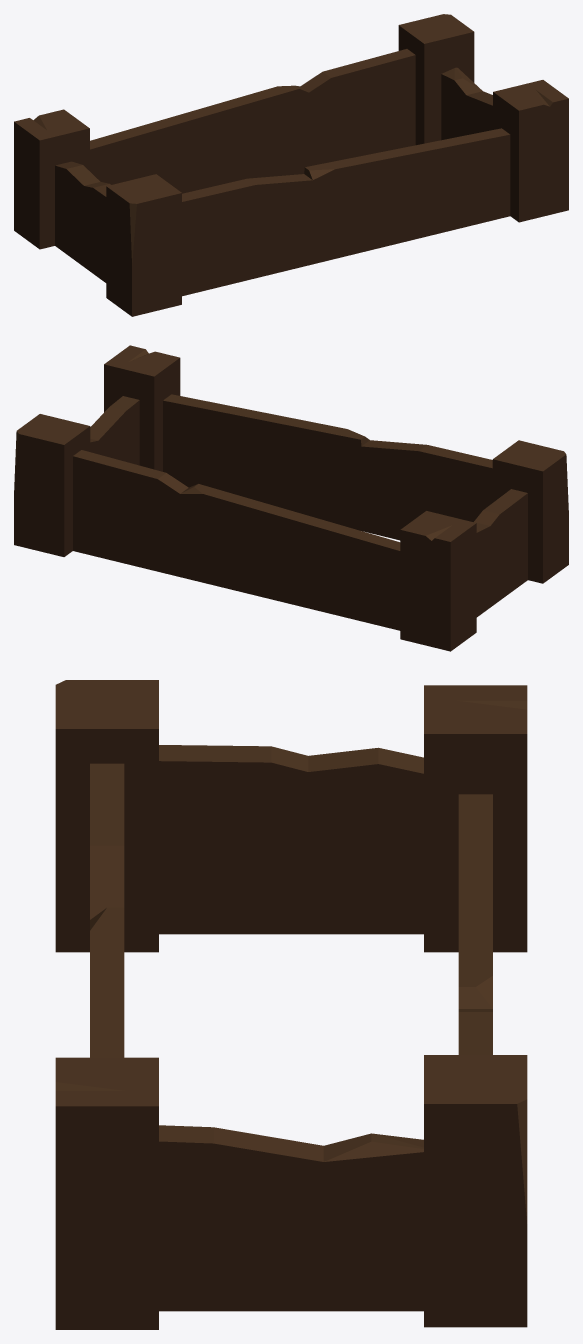
Rendered from Tribal_Plains_Planter_Box_Retainer_Wood_Timber_01.fbx.
3 renders of one model, top to bottom at view 1: azimuth 30°, elevation 25°; view 2: azimuth 150°, elevation 25°; view 3: azimuth 270°, elevation 25°, orthographic. The views are drawn at different scales.
Visible parts, largest first — view 1: Tribal_Plains_Planter_Box_Retainer_Wood_Timber_01; view 2: Tribal_Plains_Planter_Box_Retainer_Wood_Timber_01; view 3: Tribal_Plains_Planter_Box_Retainer_Wood_Timber_01.
Part boxes in pixels (bbox=[...]): Tribal_Plains_Planter_Box_Retainer_Wood_Timber_01: bbox=[14, 14, 568, 316]; Tribal_Plains_Planter_Box_Retainer_Wood_Timber_01: bbox=[14, 345, 568, 651]; Tribal_Plains_Planter_Box_Retainer_Wood_Timber_01: bbox=[55, 680, 527, 1329].
Bounding box in the file's own units: 2.2 × 0.537 × 1.03.
